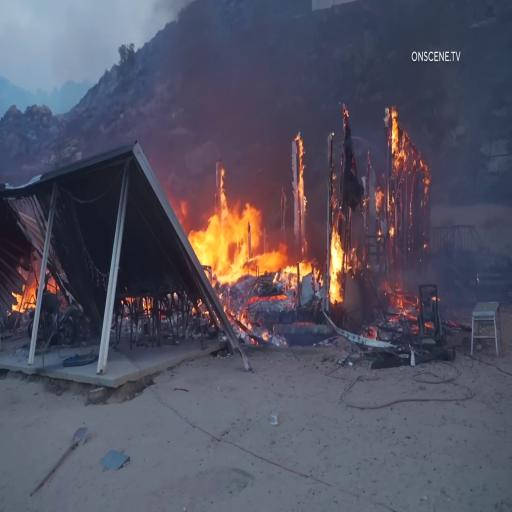fire: (192, 162, 298, 292)
